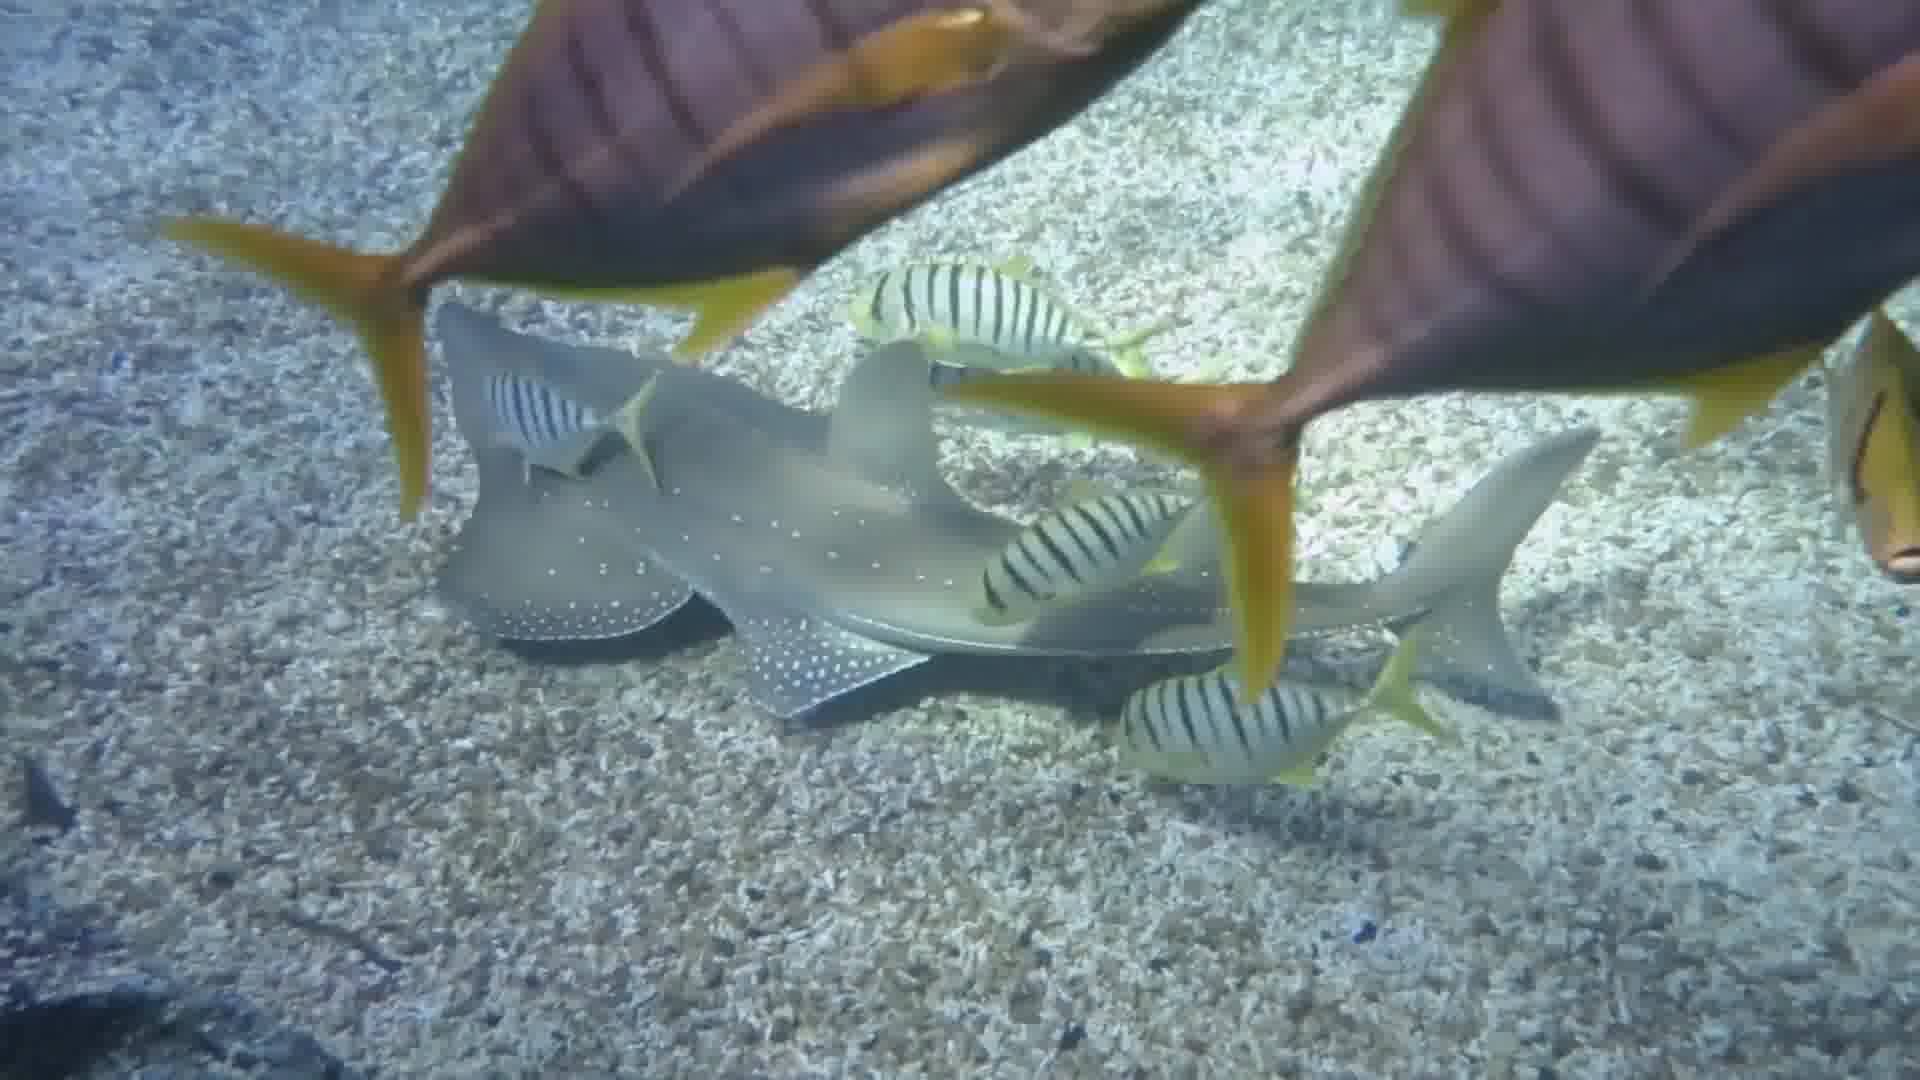Rhychobatus djiddensis: (433, 318, 1029, 724)
